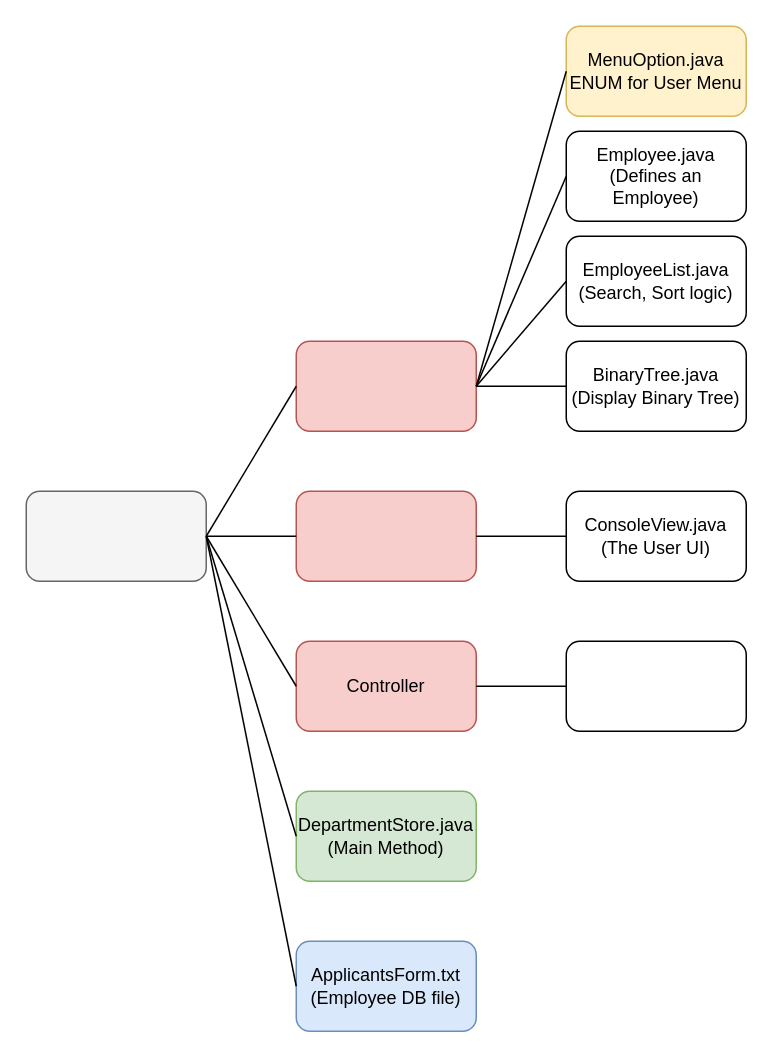
This 773x1058 diagram has some shape labels left out. Here are the shapes that lost their labels. From the top down, the box of each, then its label:
(295, 340, 476, 431): Model
(25, 490, 206, 581): /SRC Folder
(295, 490, 476, 581): View
(565, 640, 746, 731): AppController.java (Handles User Input)
